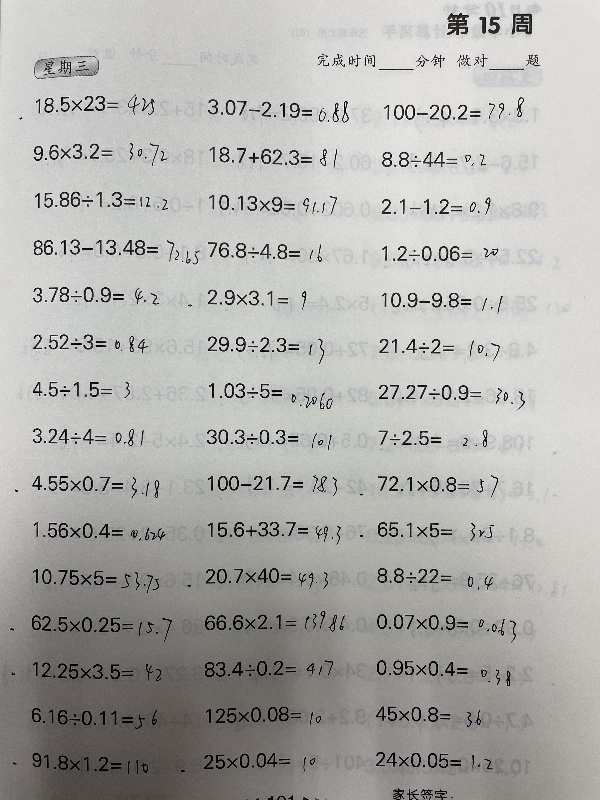equation: (28, 235, 203, 272), (372, 656, 518, 694), (372, 611, 523, 647), (28, 613, 177, 649), (193, 470, 352, 502), (197, 607, 350, 640), (206, 228, 328, 268), (30, 517, 170, 551), (29, 564, 162, 599), (25, 701, 161, 735), (28, 138, 168, 171), (202, 519, 348, 550), (374, 378, 528, 407), (377, 333, 503, 368), (203, 95, 352, 124), (9, 470, 162, 498), (203, 654, 336, 686), (28, 748, 153, 782), (373, 562, 496, 596), (379, 96, 528, 124), (202, 332, 327, 365), (202, 562, 333, 593), (30, 659, 168, 688), (374, 515, 500, 546), (374, 471, 502, 500), (198, 749, 326, 778), (373, 749, 501, 778), (204, 379, 336, 407), (30, 88, 157, 117), (203, 190, 339, 217), (204, 142, 340, 169), (29, 186, 170, 212), (201, 424, 334, 450), (377, 286, 505, 313), (28, 281, 161, 306), (201, 706, 328, 732), (27, 421, 146, 448), (375, 425, 492, 452), (28, 329, 150, 354), (377, 193, 494, 218), (378, 241, 502, 264), (375, 704, 484, 730), (202, 285, 309, 311), (28, 377, 134, 402), (377, 147, 489, 170)
